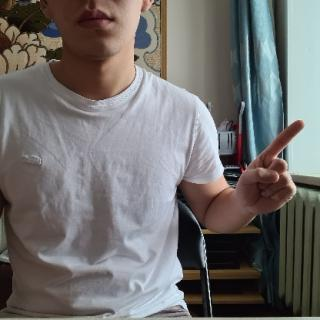BAA: (232, 116, 308, 220)
